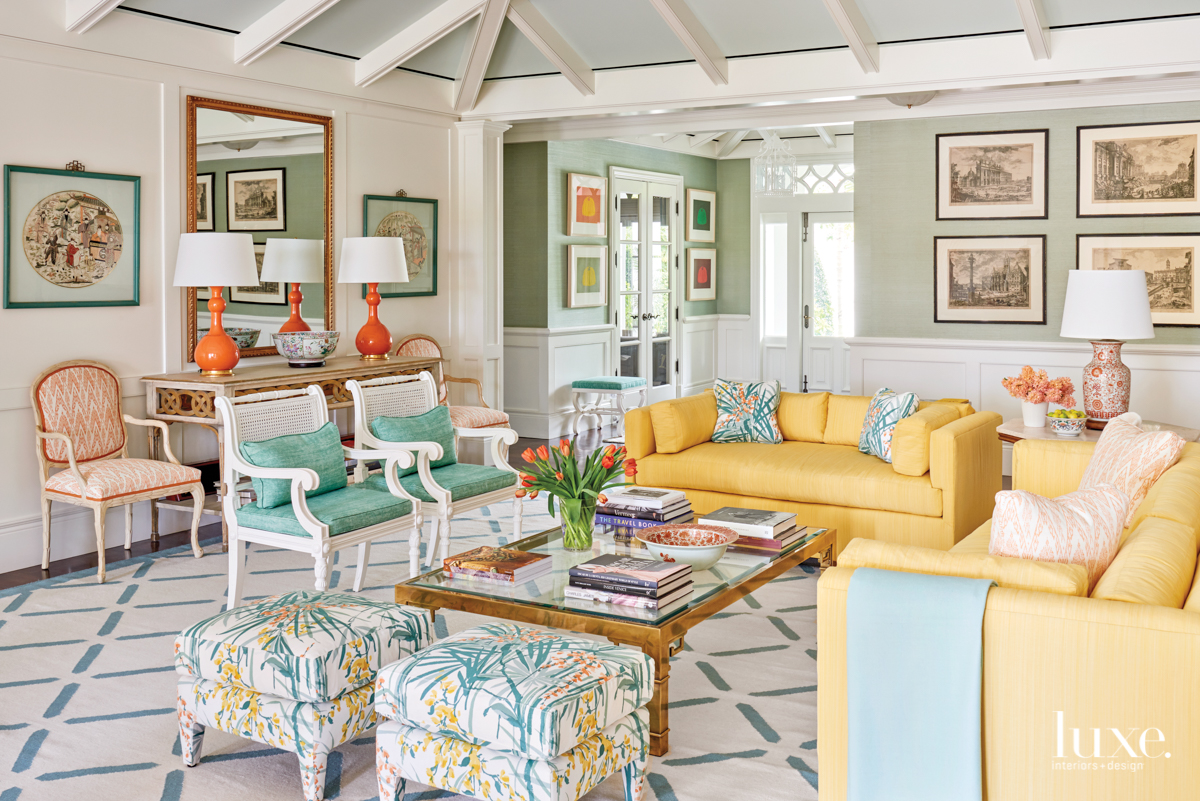hijau: (306, 482, 405, 527), (253, 442, 341, 490)
kuning: (842, 522, 1199, 795), (632, 389, 997, 521)
orange: (195, 288, 240, 372), (352, 284, 399, 354), (283, 283, 312, 332)
putih: (1067, 265, 1153, 339), (177, 232, 260, 286), (337, 239, 412, 283), (262, 238, 315, 281), (1020, 400, 1050, 426)
